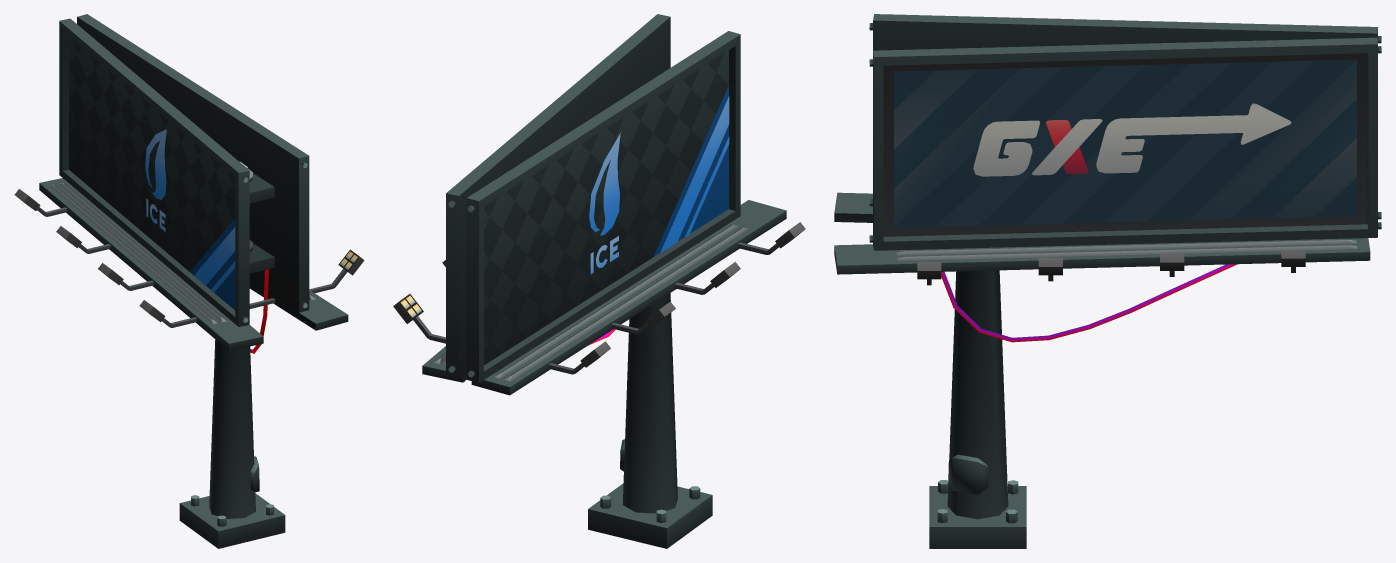
The model's file is Billboard_2C.fbx.
The picture shows the model from 3 angles, left to right: view 1: azimuth 30°, elevation 25°; view 2: azimuth 150°, elevation 25°; view 3: azimuth 270°, elevation 25°; orthographic projection. The views are drawn at different scales.
Parts seen in each view (by area): view 1: Billboard_2C, Billboard_2C_Image.L; view 2: Billboard_2C, Billboard_2C_Image.L; view 3: Billboard_2C, Billboard_2C_Image.R.
Boxes of the visible parts, bbox=[...] form: Billboard_2C: bbox=[14, 14, 364, 548]; Billboard_2C_Image.L: bbox=[69, 36, 235, 310]; Billboard_2C: bbox=[393, 14, 805, 548]; Billboard_2C_Image.L: bbox=[484, 50, 729, 364]; Billboard_2C: bbox=[834, 14, 1381, 548]; Billboard_2C_Image.R: bbox=[894, 59, 1356, 227].
Bounding box in the file's own units: 644 × 1120 × 1127.
